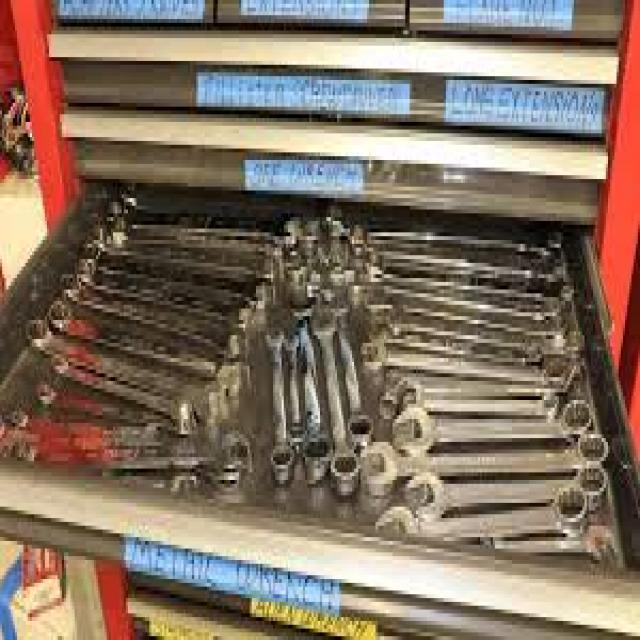wrench: (358, 435, 612, 500), (371, 484, 598, 556), (390, 391, 600, 463), (312, 306, 356, 505), (330, 296, 374, 455), (292, 302, 330, 478), (261, 322, 293, 488)
